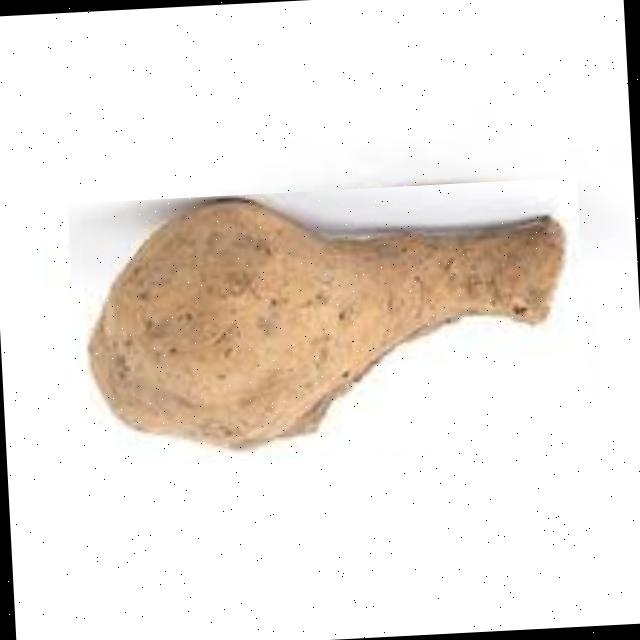Damaged potato: (68, 178, 590, 470)
